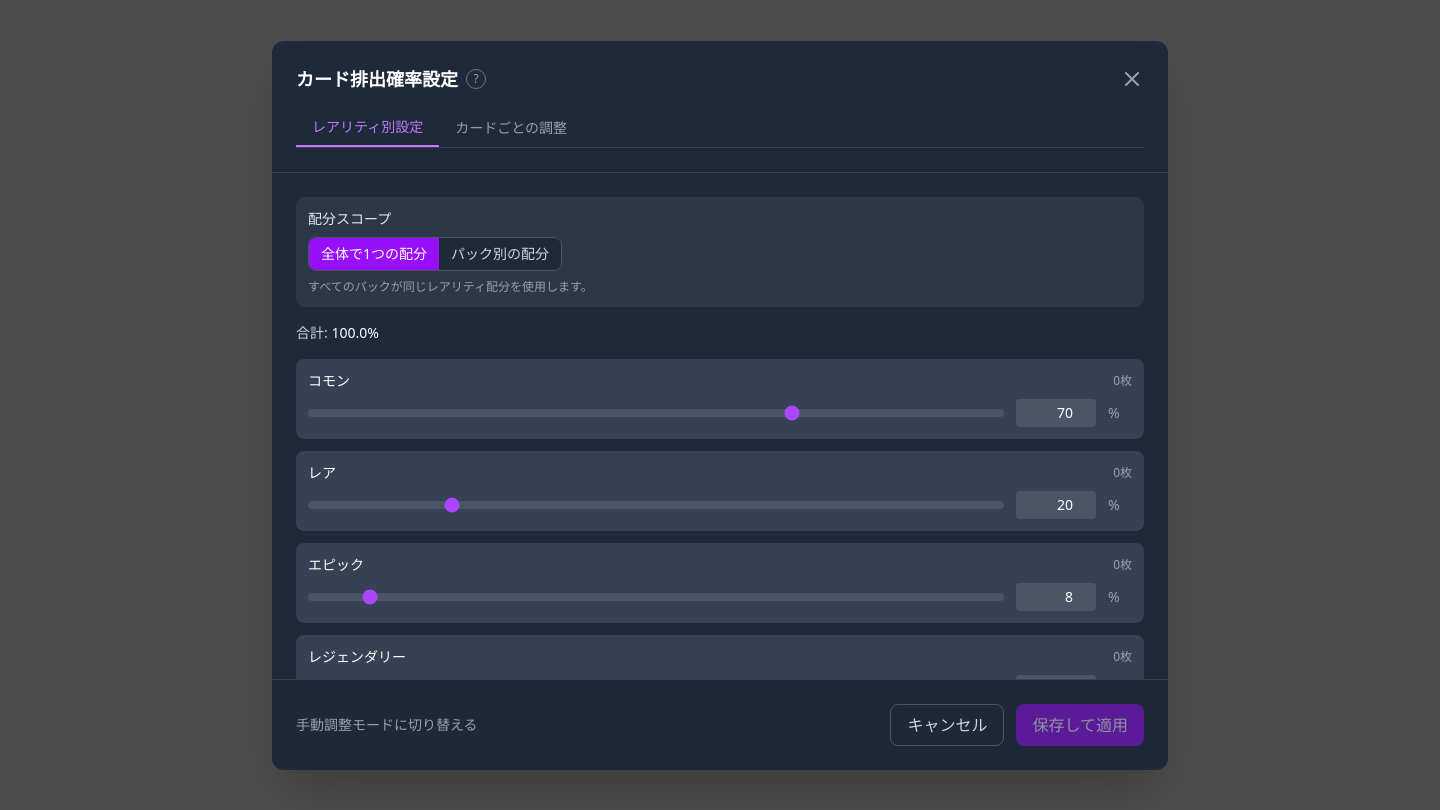
Test: DropRateAutoModeContent per-pack editor: inherit -> 専用設定 -> 継承に戻す › preserves edits to a pack that is not currently selected when switching packs
The width and height of the screenshot is (1440, 810).
Click the radio button labelled "パック別の配分".
click(500, 254)  # box [439,238,561,270]
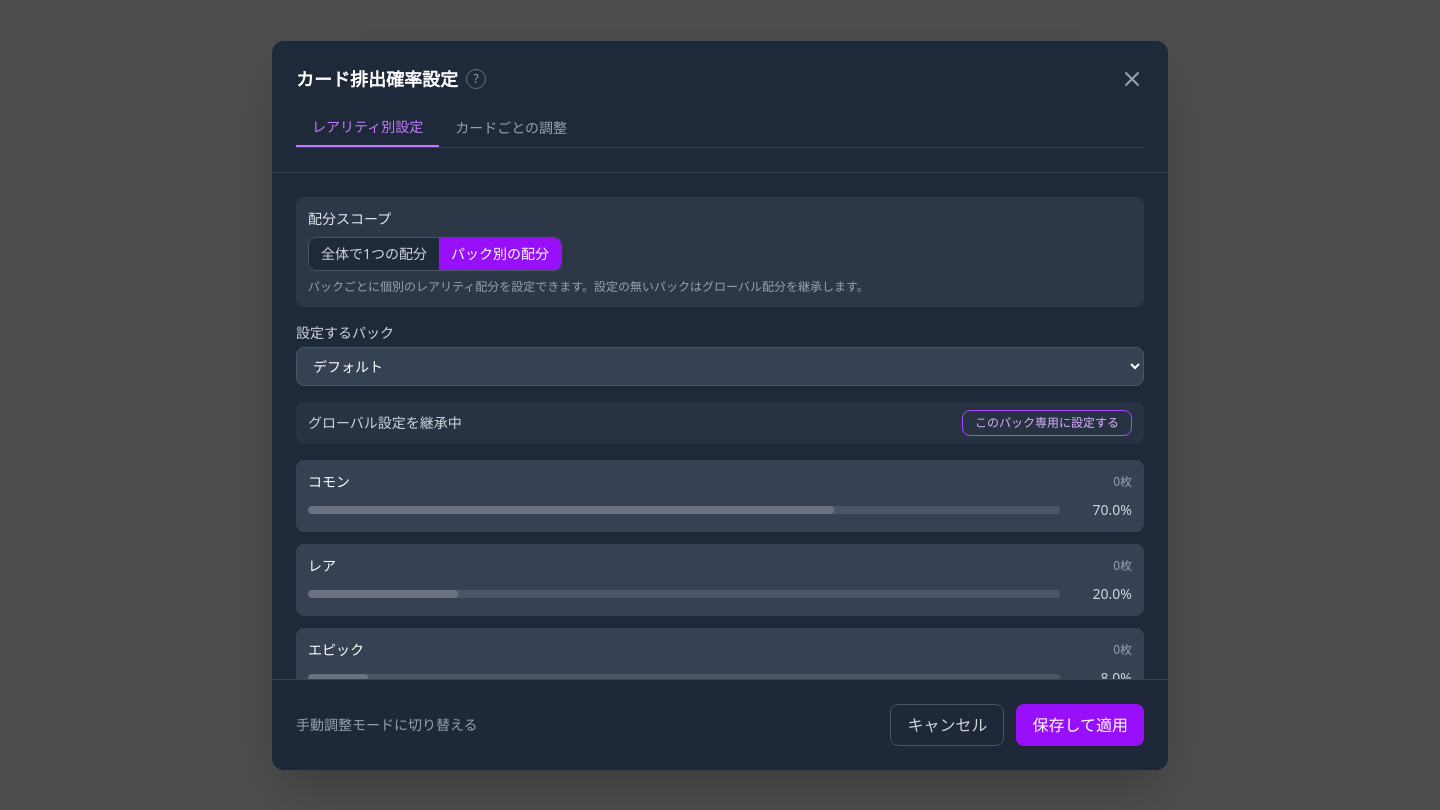
Select "武器パック" in the dropdown with id "drop-rate-pack-select" at (720, 366), box [296,346,1144,386]
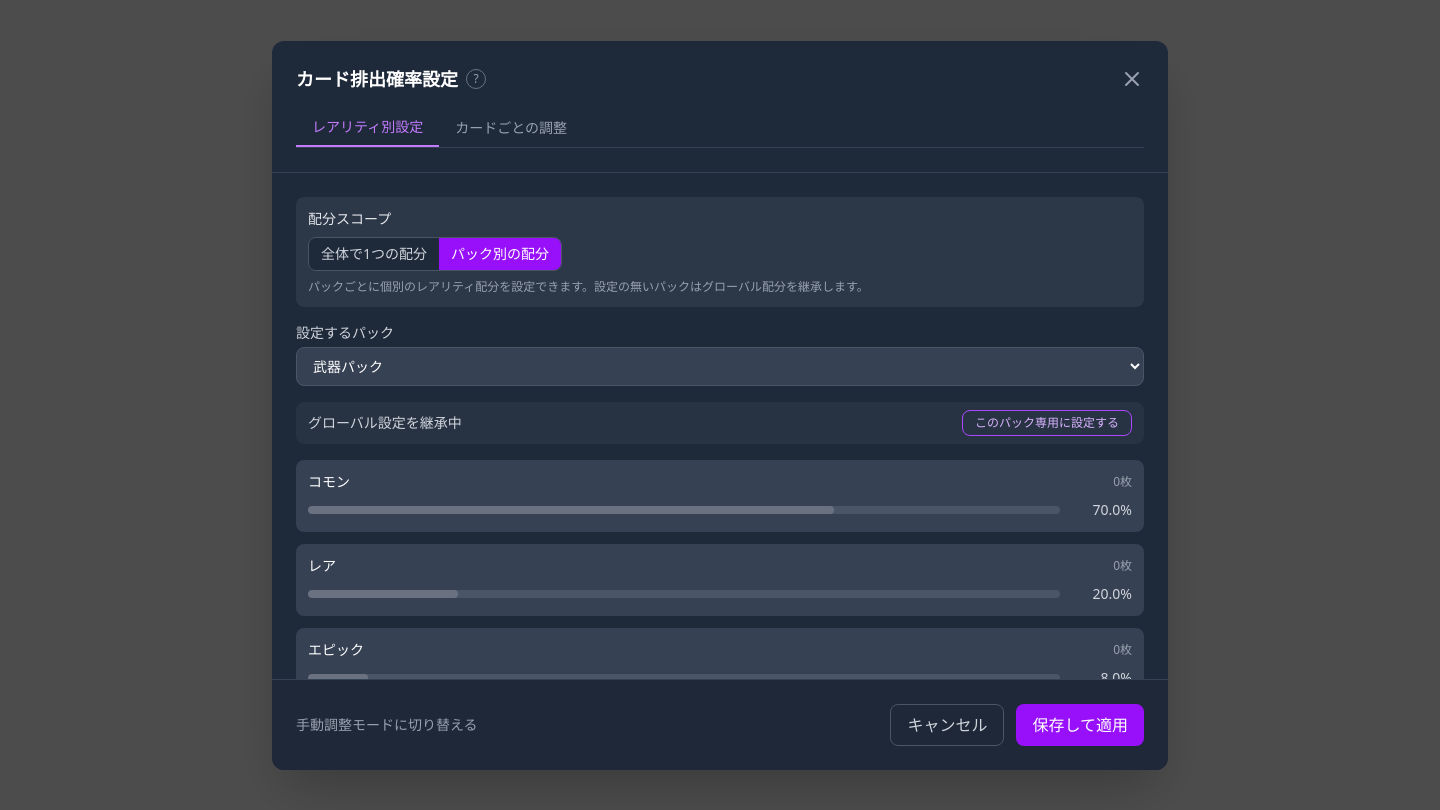
Click the button "このパック専用に設定する".
click(1047, 422)  # box [962,410,1132,436]
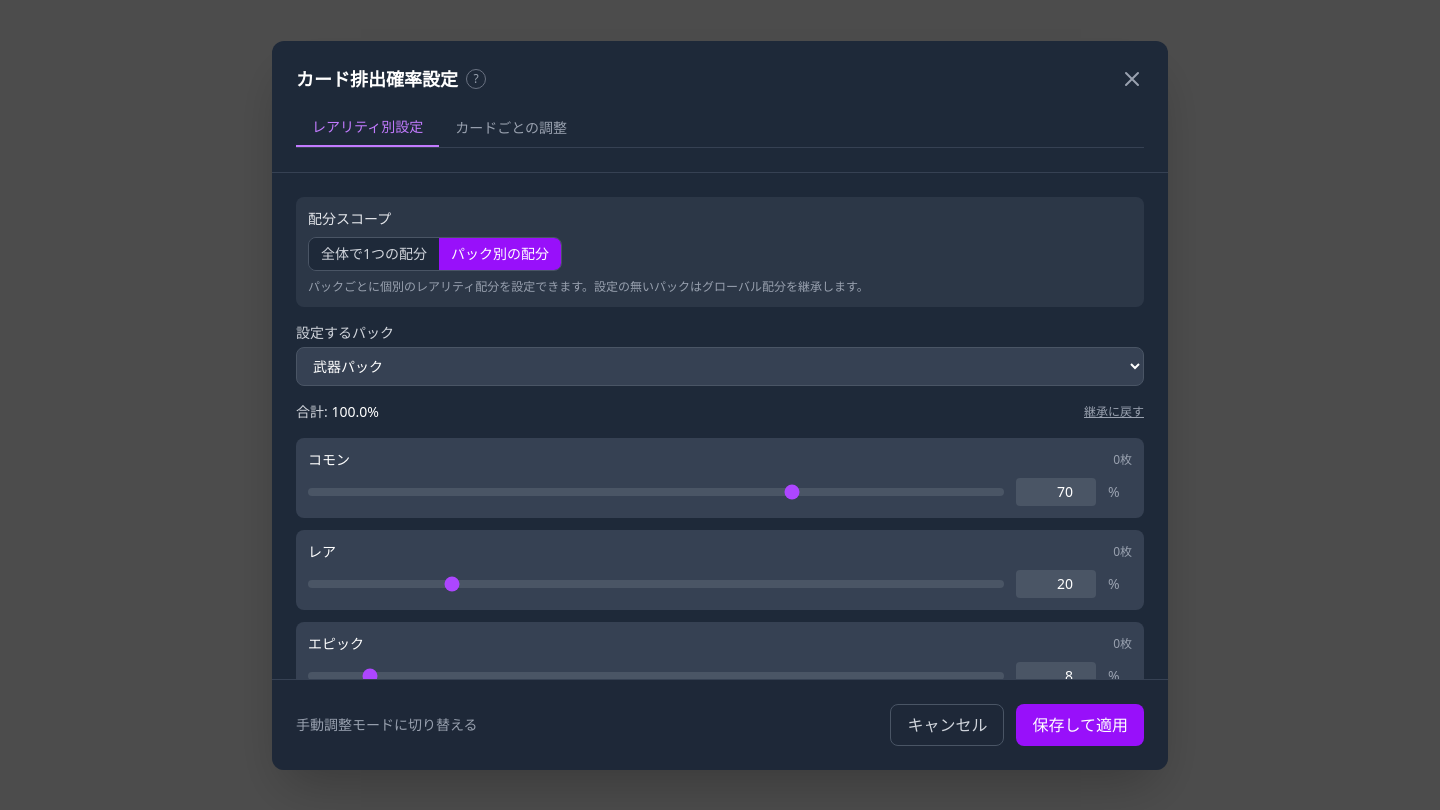
武器パックのコモンを変更
Replace the text in the 1st number field with "60" at (1056, 492), box [1016,478,1096,506]
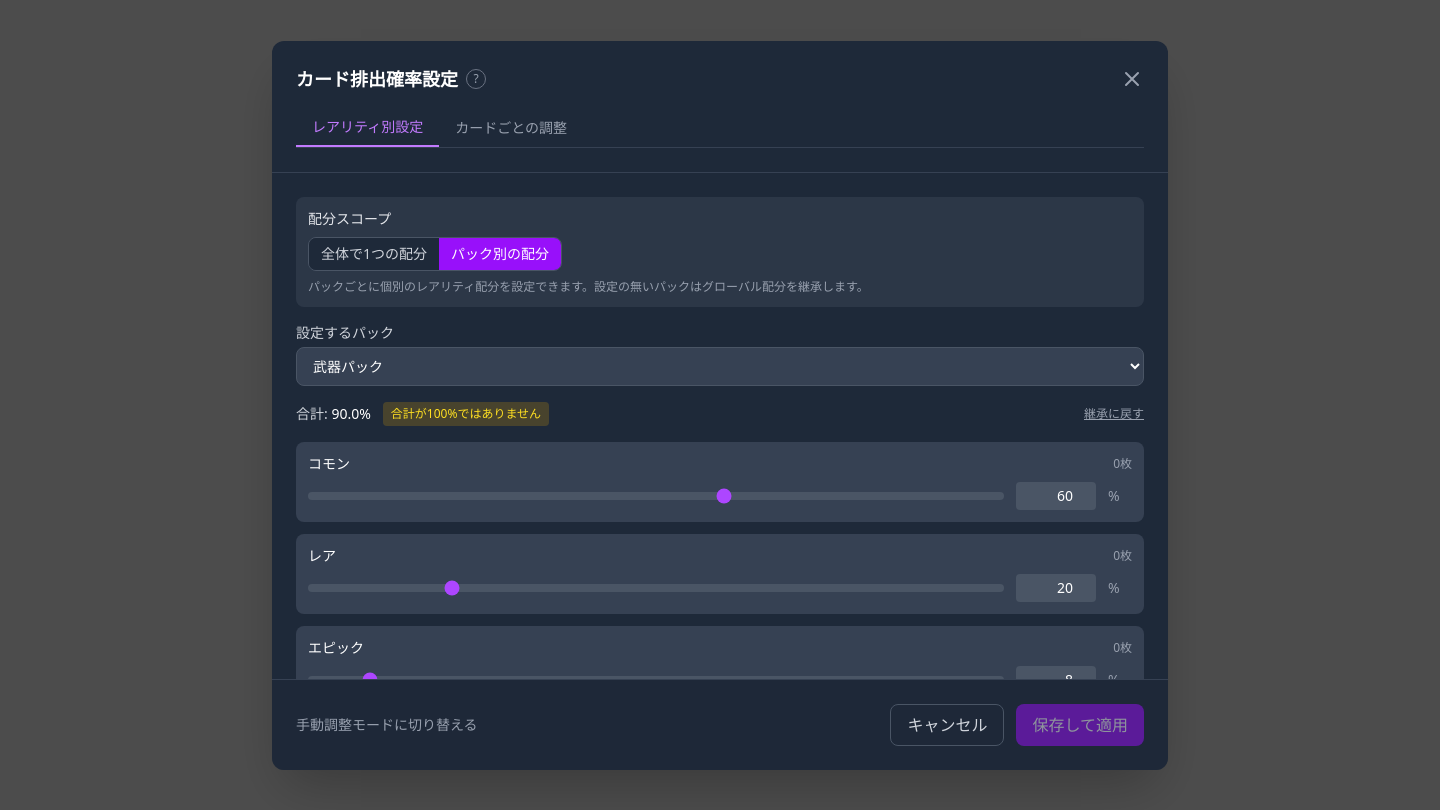
別パックへ切り替え → まだ継承中のはず
Select "防具パック" in the dropdown with id "drop-rate-pack-select" at (720, 366), box [296,346,1144,386]
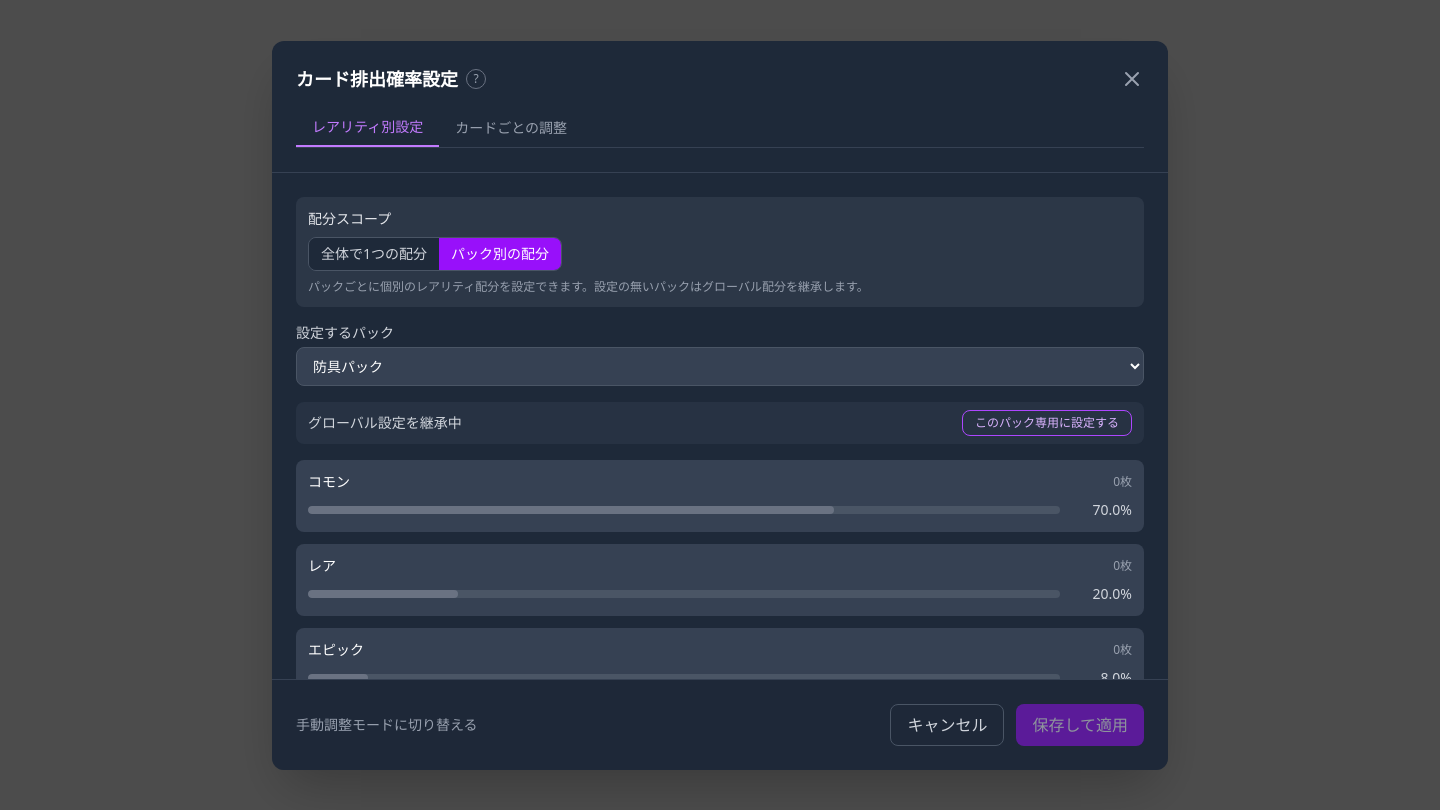
Expected: the text "グローバル設定を継承中" is shown, [308,412,462,432]
武器パックへ戻すと編集内容が維持されている
Select "武器パック" in the dropdown with id "drop-rate-pack-select" at (720, 366), box [296,346,1144,386]
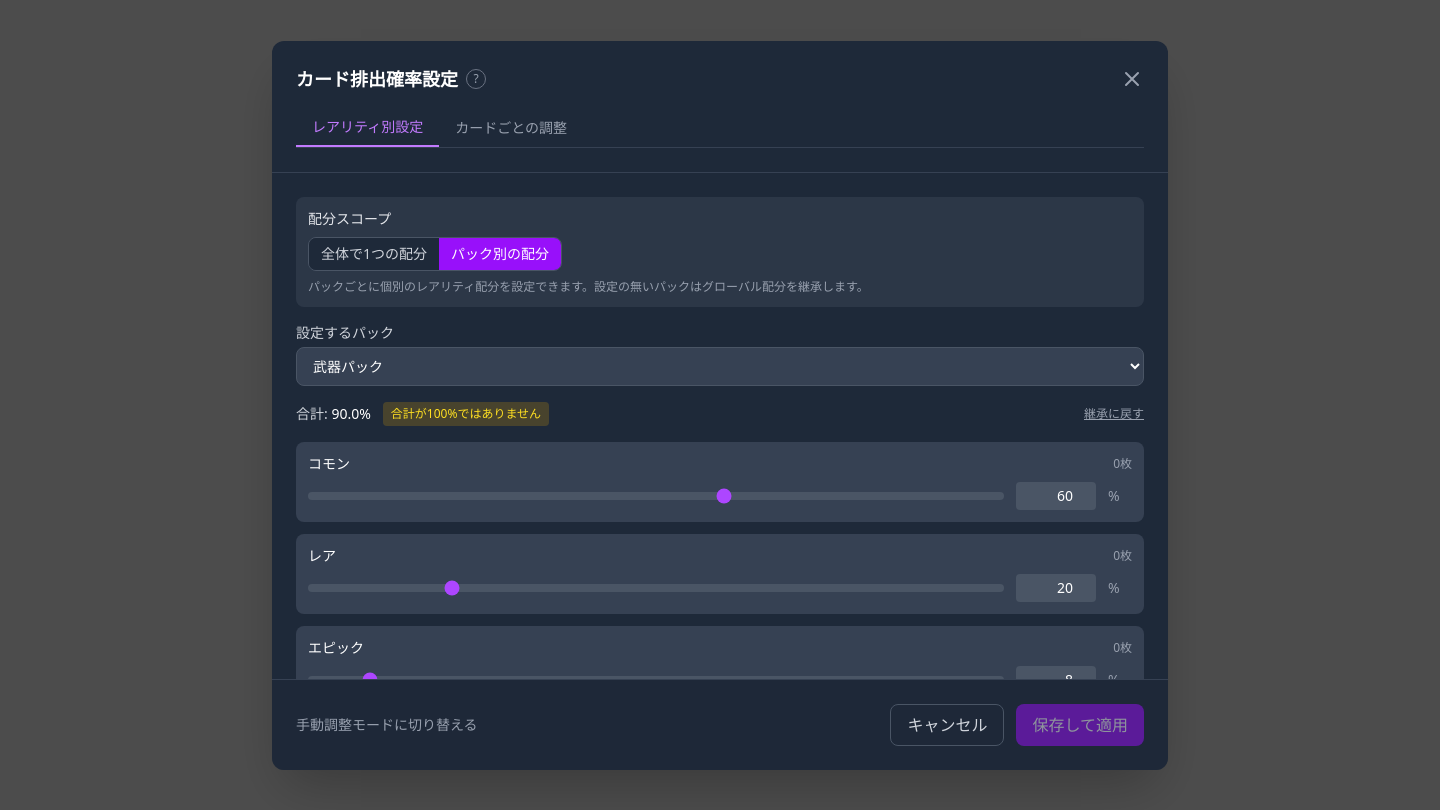
Expected: the 1st number field holds "60", [1016,482,1096,510]
